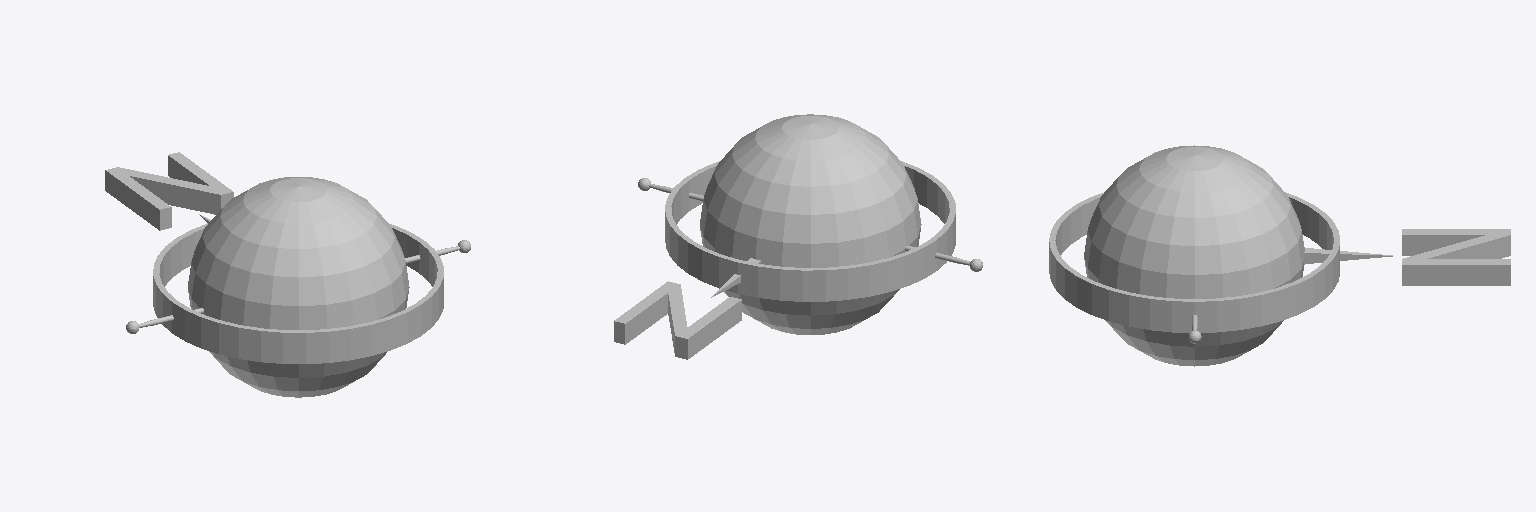
File: compass.obj
3 renders of one model, left to right at view 1: azimuth 30°, elevation 25°; view 2: azimuth 150°, elevation 25°; view 3: azimuth 270°, elevation 25°, orthographic.
Parts seen in each view (by area): view 1: AnyConv.com__3D_NORTH_Herbert_Pehl_N090410; view 2: AnyConv.com__3D_NORTH_Herbert_Pehl_N090410; view 3: AnyConv.com__3D_NORTH_Herbert_Pehl_N090410.
Part boxes in pixels (bbox=[...]): AnyConv.com__3D_NORTH_Herbert_Pehl_N090410: bbox=[105, 152, 470, 397]; AnyConv.com__3D_NORTH_Herbert_Pehl_N090410: bbox=[614, 114, 982, 359]; AnyConv.com__3D_NORTH_Herbert_Pehl_N090410: bbox=[1049, 145, 1510, 366].
Bounding box in the file's own units: 344 × 192 × 400.